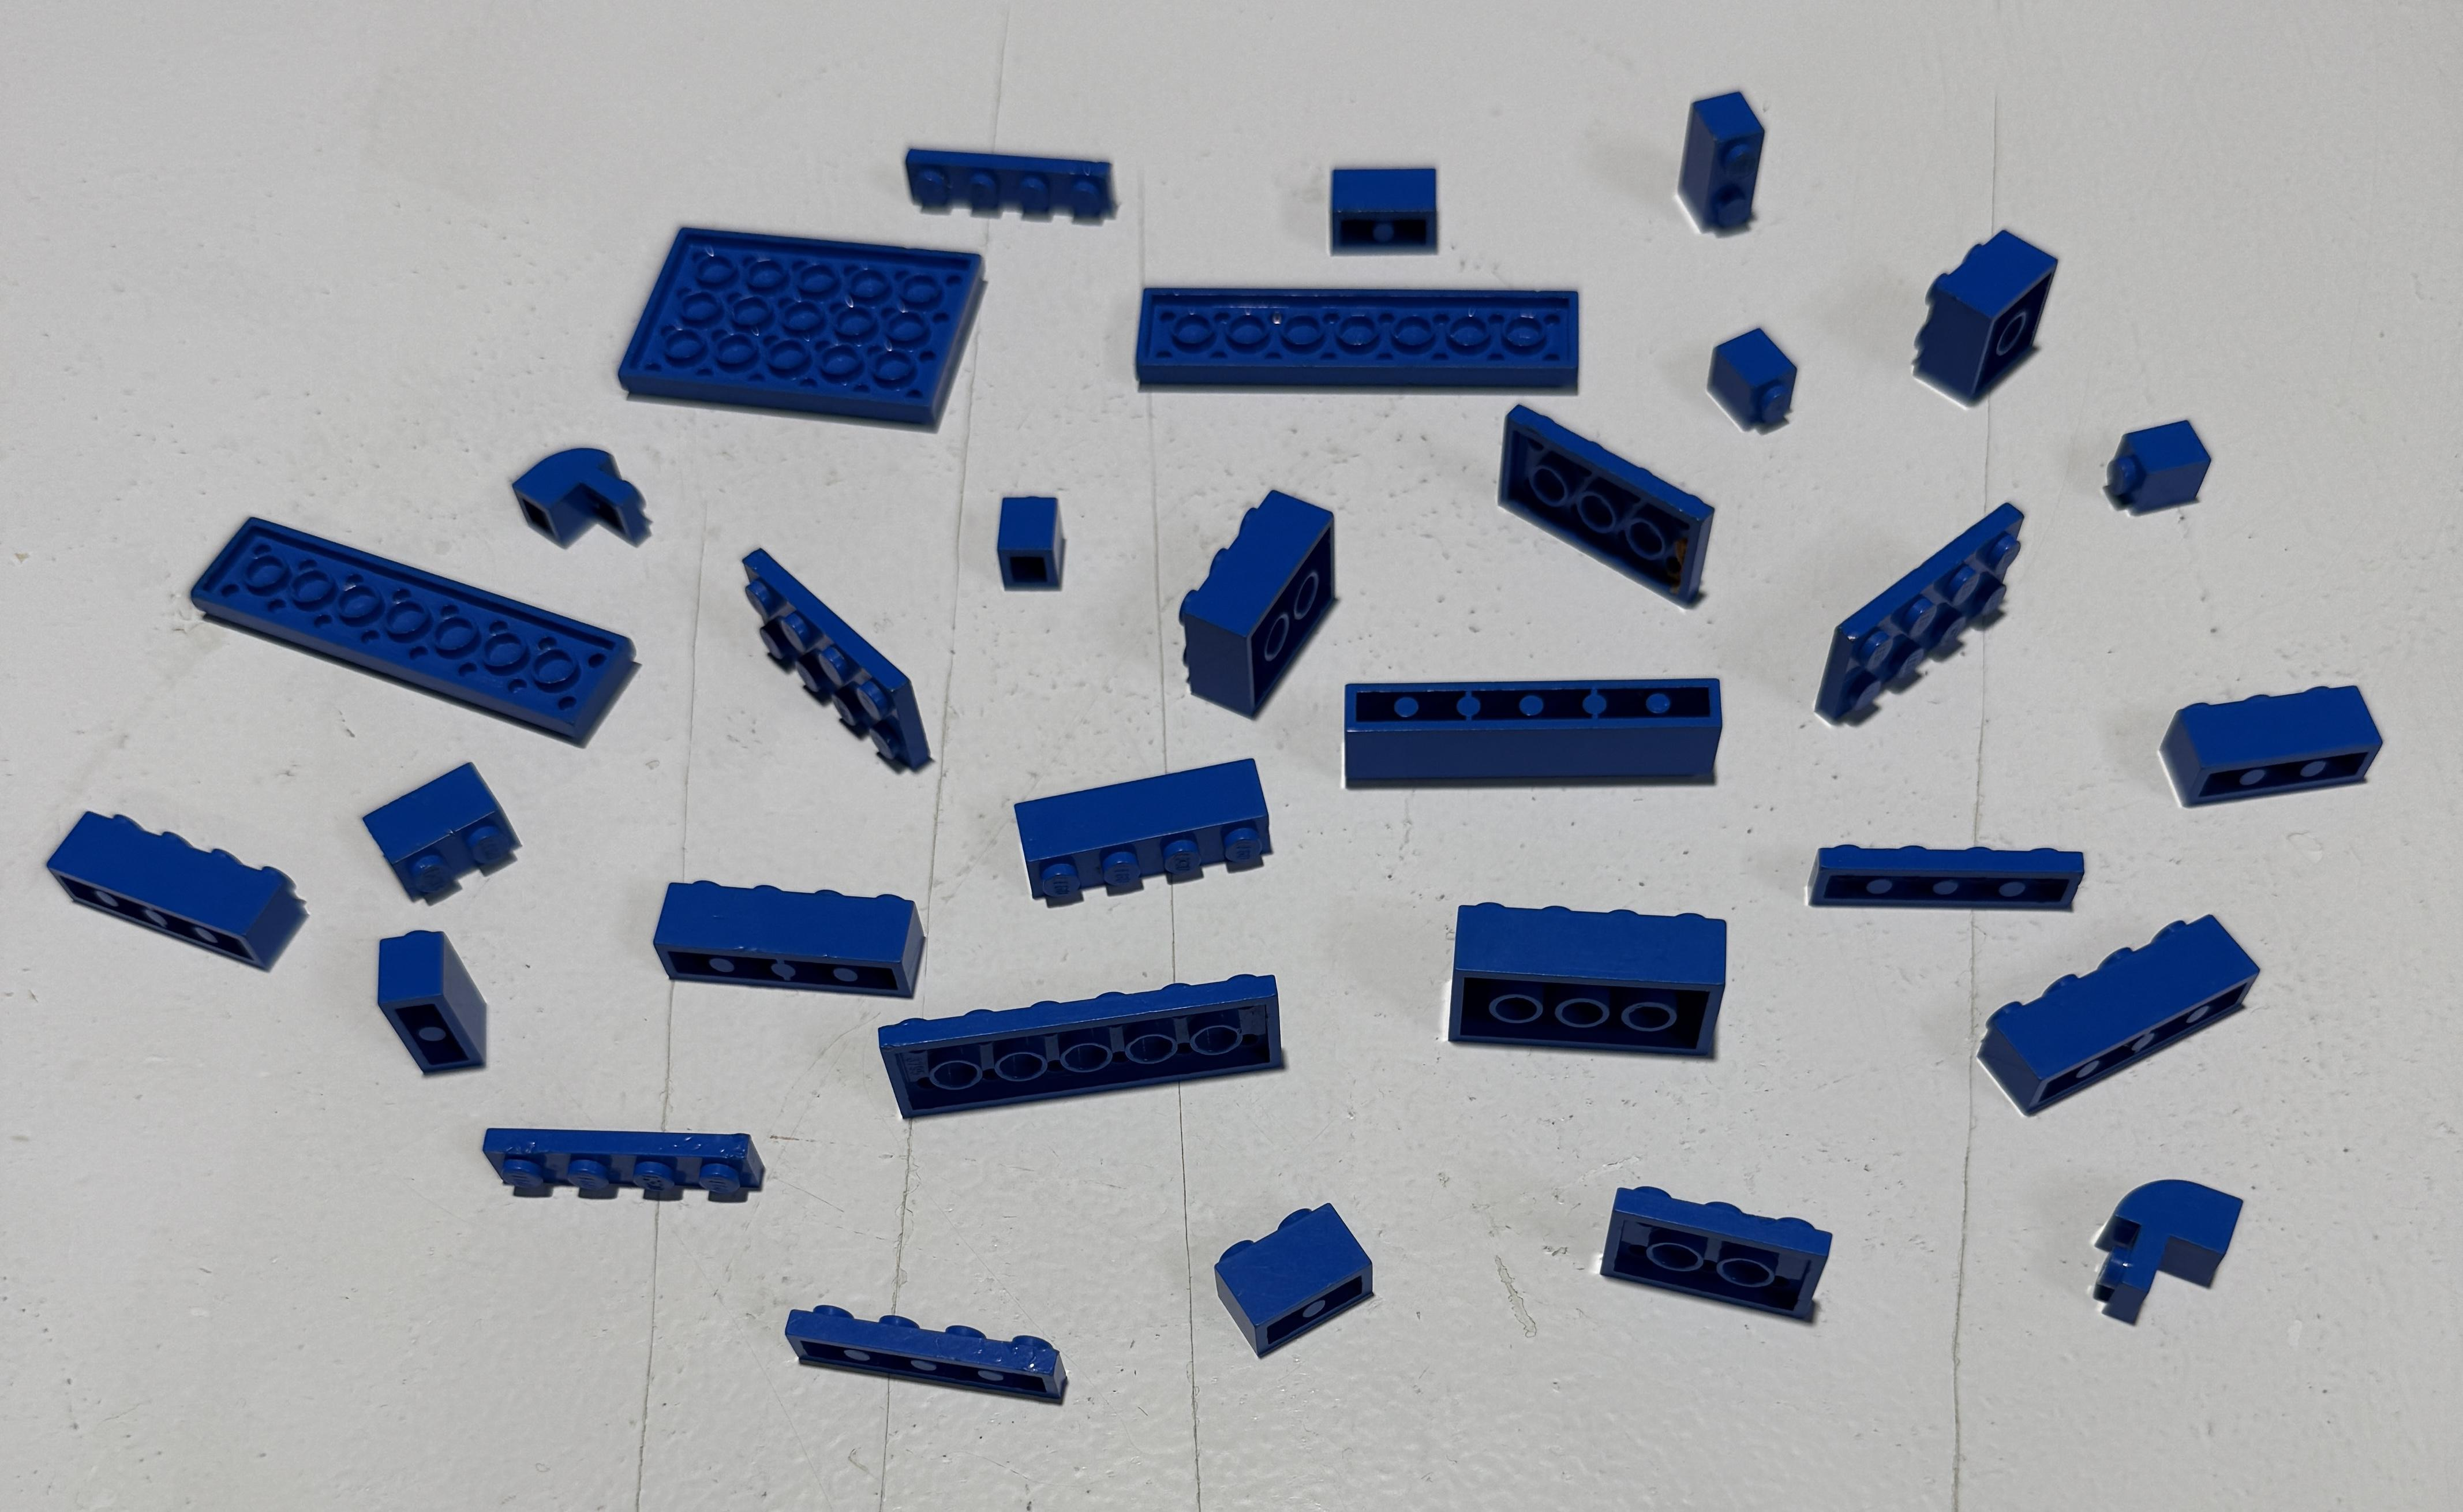brick_1x1: (1701, 308, 1821, 445), (992, 484, 1093, 602)
brick_1x2: (1182, 1186, 1423, 1389), (350, 748, 533, 917), (355, 917, 515, 1093), (1663, 63, 1802, 262)
brick_1x3: (2125, 650, 2410, 831)
brick_1x4: (1948, 896, 2289, 1146), (983, 725, 1300, 922), (28, 783, 317, 989), (637, 854, 943, 1009)
brick_2x2: (1879, 197, 2095, 444)
brick_2x3: (1159, 477, 1353, 736)
brick_2x4: (1430, 882, 1743, 1088)
